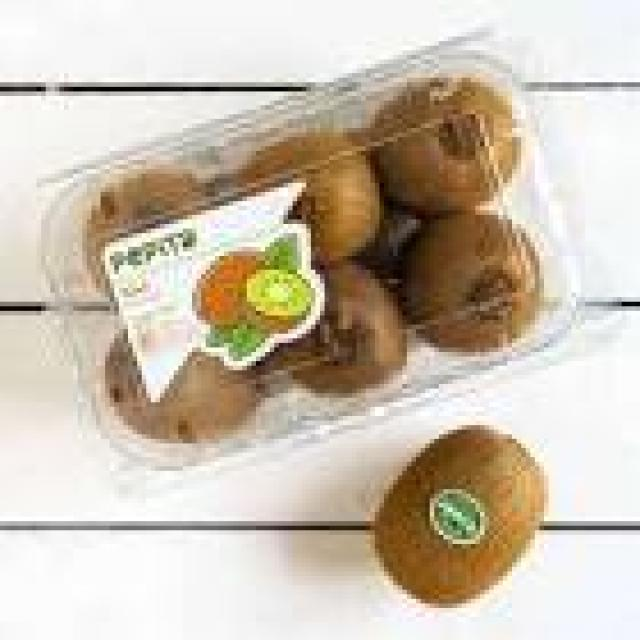kivi: (376, 426, 545, 602), (369, 78, 518, 216), (238, 132, 381, 264), (266, 260, 406, 394), (402, 212, 540, 345)
